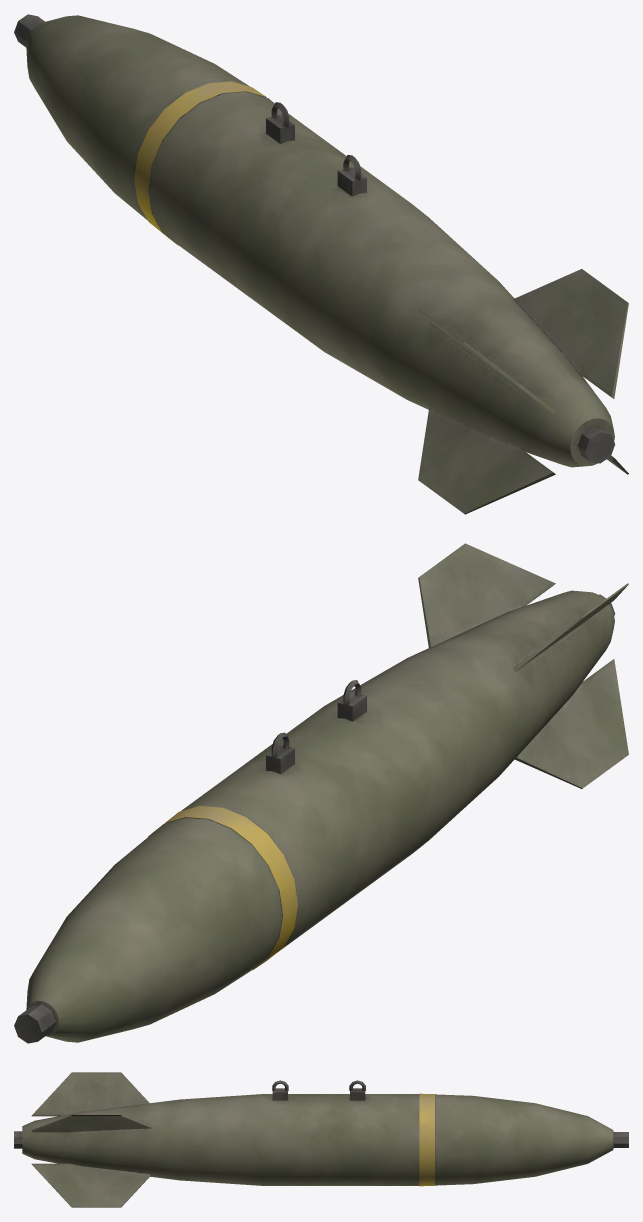
Rendered from bomb.glb.
3 views of the same model, one above another, from view 1: azimuth 30°, elevation 25°; view 2: azimuth 150°, elevation 25°; view 3: azimuth 270°, elevation 25° (orthographic). The views are drawn at different scales.
Parts seen in each view (by area): view 1: body; view 2: body; view 3: body.
Part boxes in pixels (x1=…): body: x1=14, y1=14, x2=628, y2=514; body: x1=14, y1=543, x2=628, y2=1043; body: x1=14, y1=1072, x2=628, y2=1207.
Size of the model in its own units: 0.3309 by 0.3782 by 1.99.
1 material, 1 textured.
